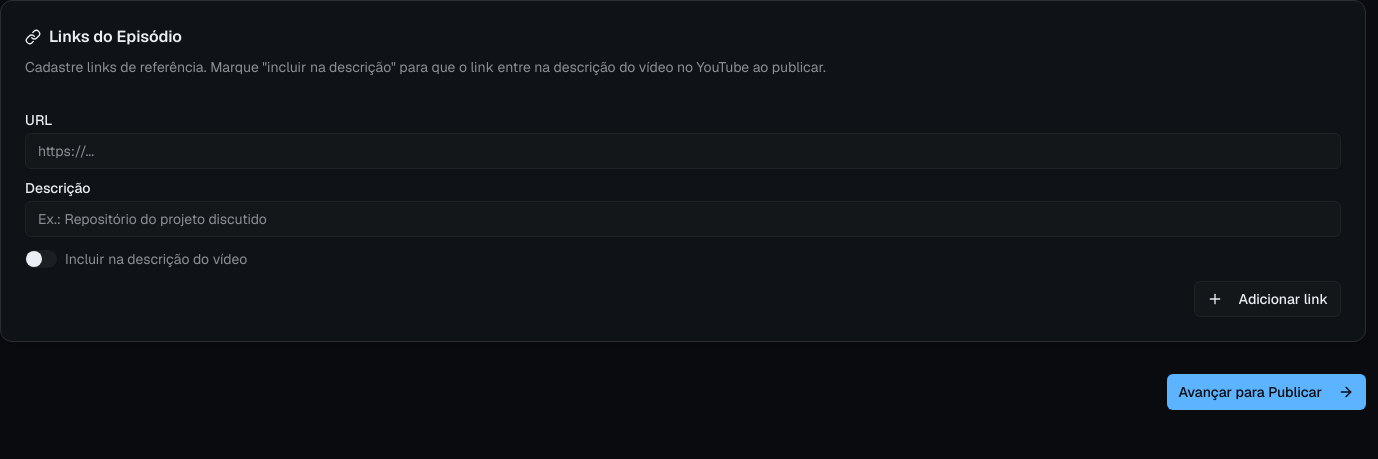
Test: PhaseLinks (Epic 26) › requires both url and description
Type "https://exemplo.com" into the field labelled "URL". click: (683, 151)
box: [25, 133, 1341, 169]
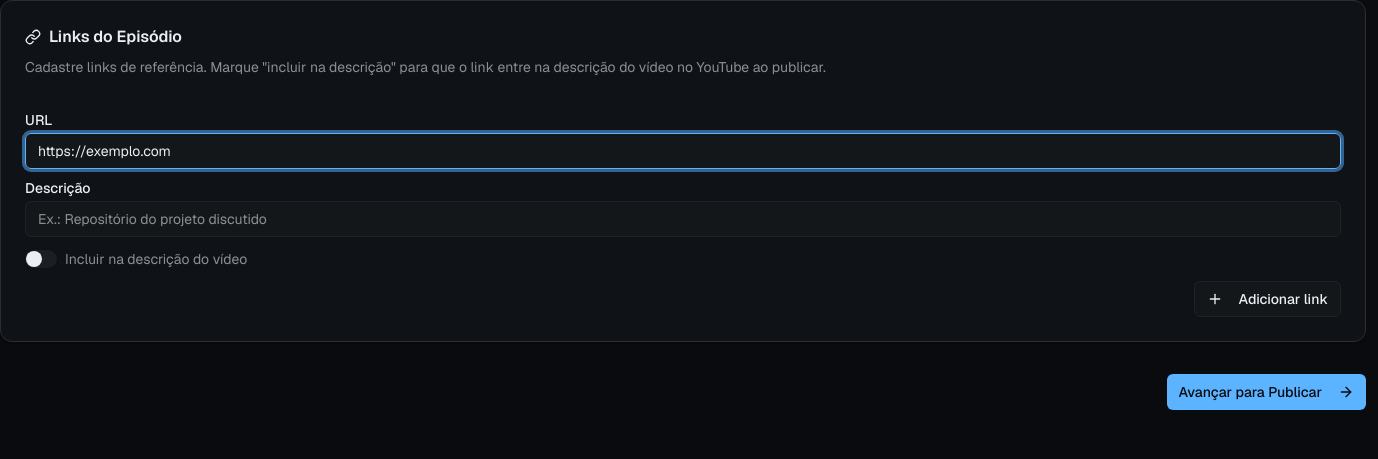
Click the button "Adicionar link". click: (1267, 299)
box: [1194, 281, 1341, 317]
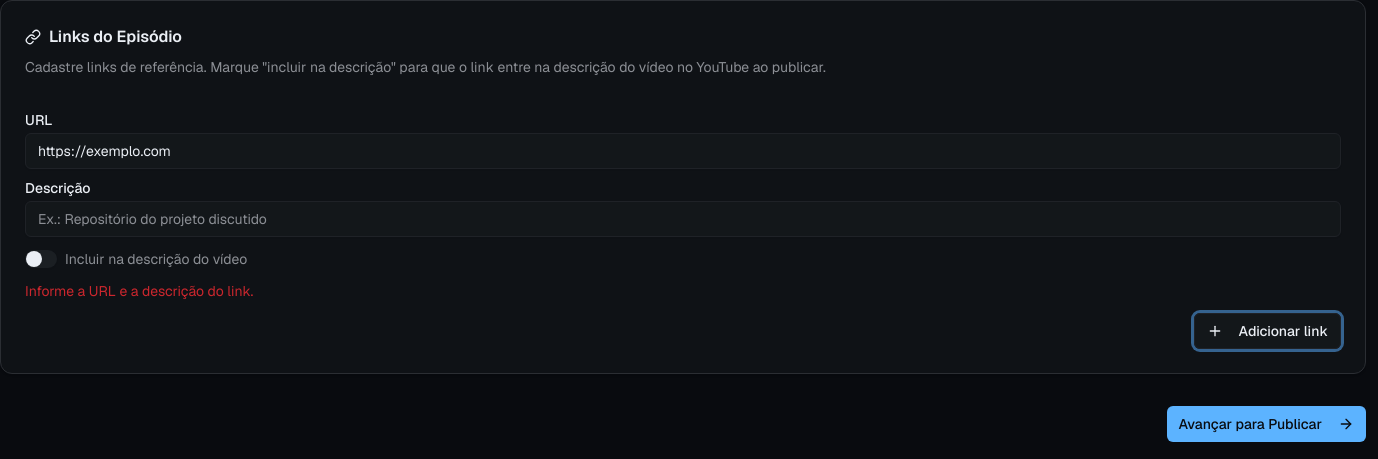
expect the text "Informe a URL e a descrição do link." is shown: met, box [25, 282, 253, 300]
